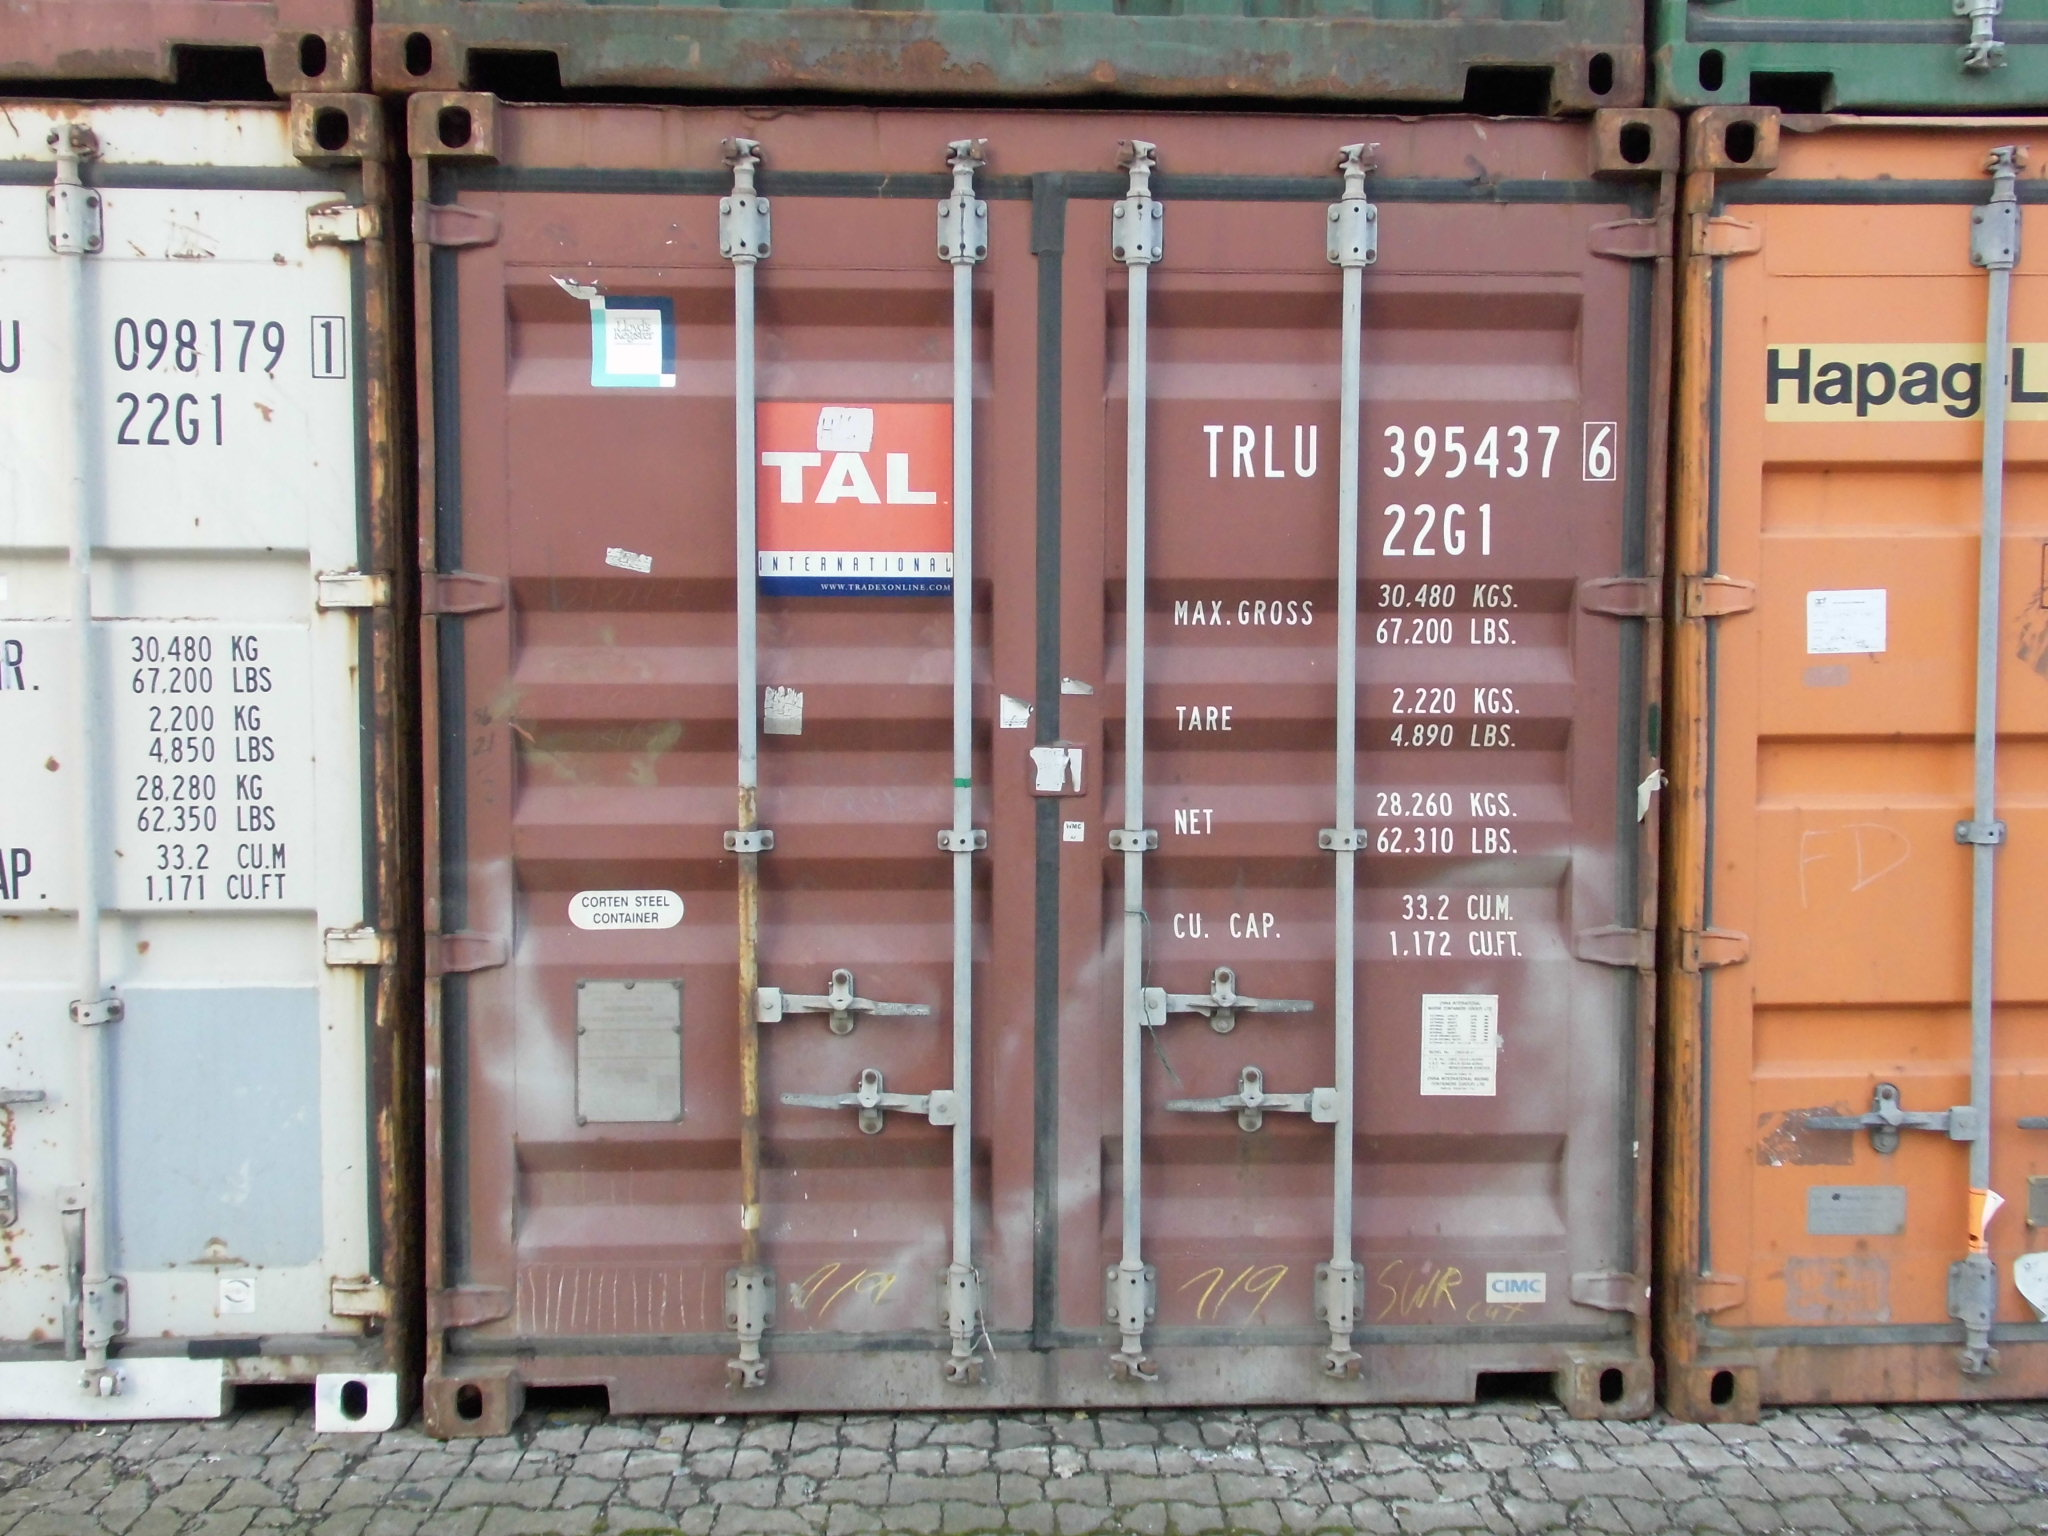container_door: (402, 74, 1675, 1417)
